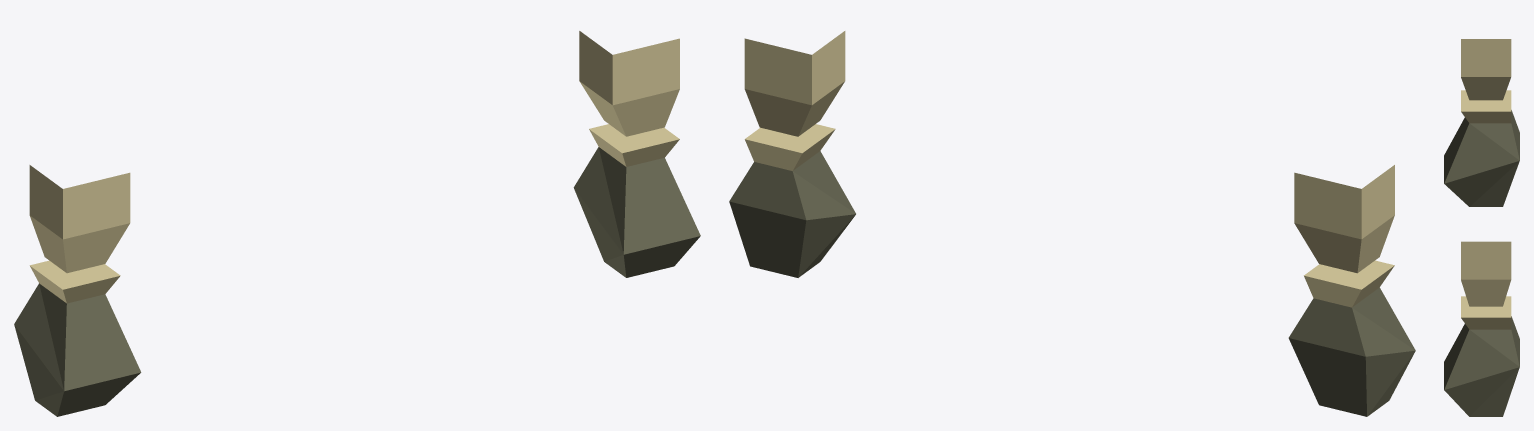
The model's file is player_barrows_gloves.glb.
3 views of the same model, side by side, from view 1: azimuth 30°, elevation 25°; view 2: azimuth 150°, elevation 25°; view 3: azimuth 270°, elevation 25° (orthographic). The views are drawn at different scales.
Bounding box in the file's own units: 66.02 × 22.99 × 9.
1 material, 1 textured.
